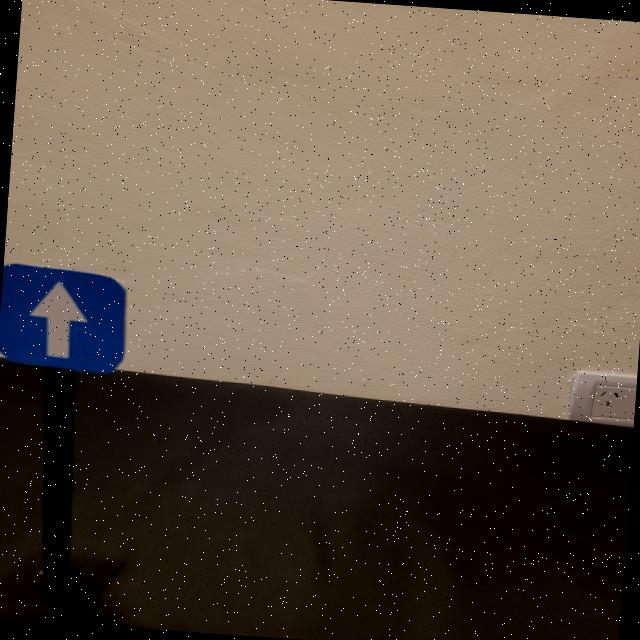one_way: (0, 261, 131, 375)
